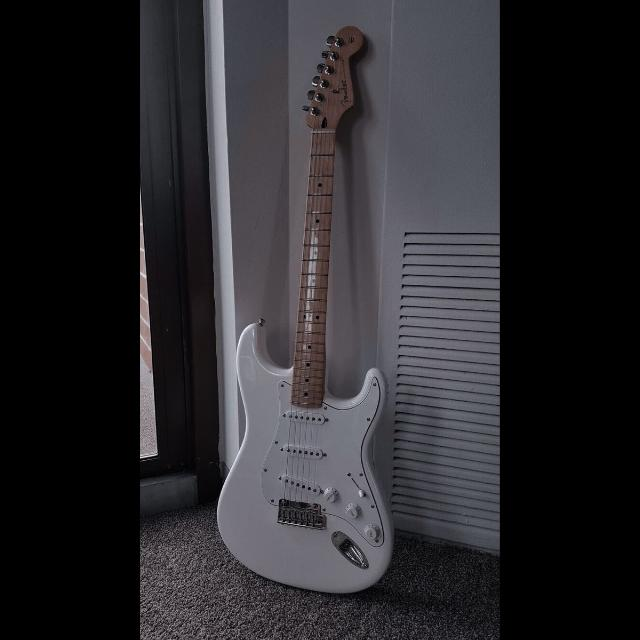Electric-Guitar: (184, 0, 410, 602)
